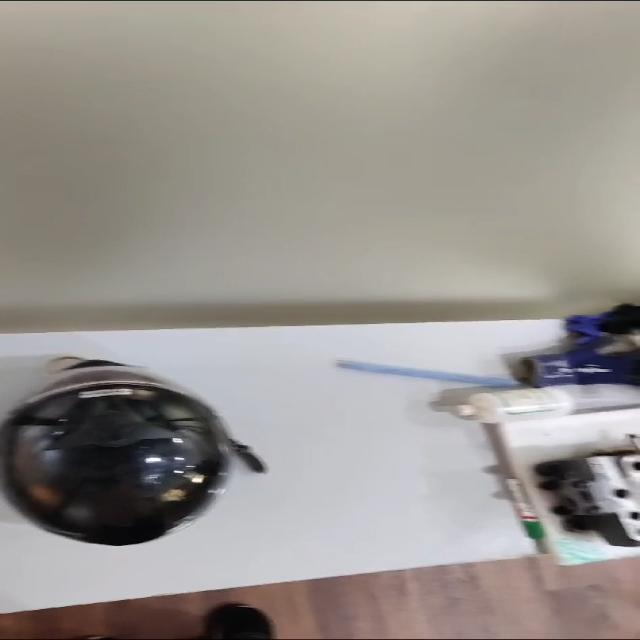helmet: (0, 358, 265, 546)
